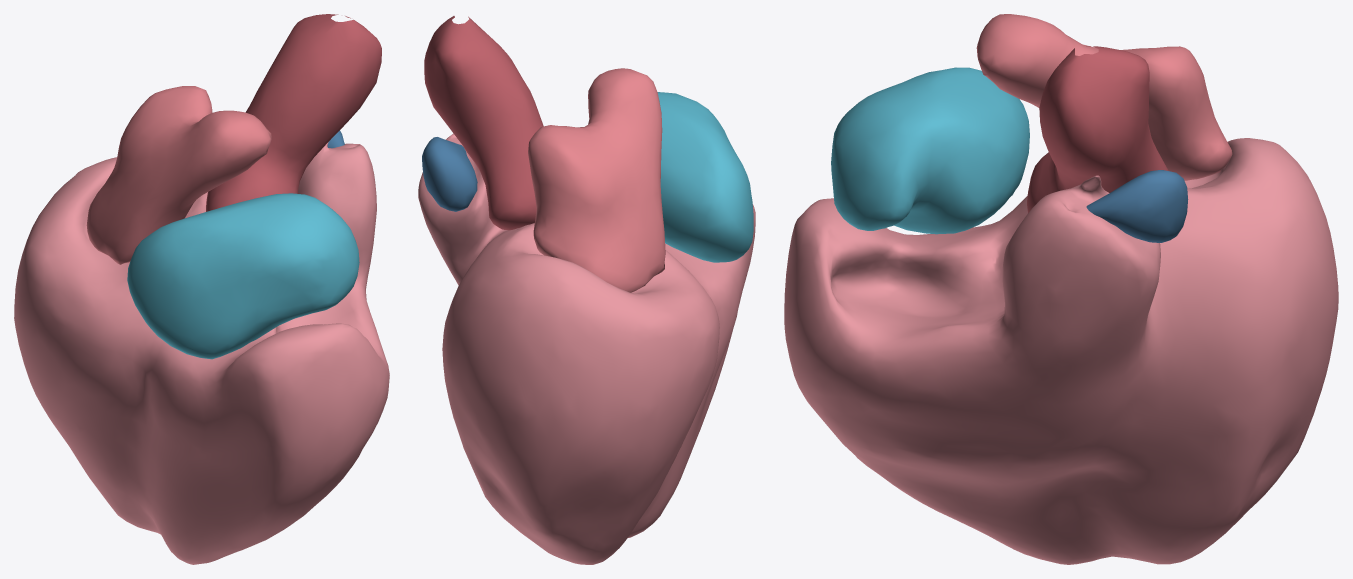
The model's file is frame_40.glb.
3 renders of one model, left to right at view 1: azimuth 30°, elevation 25°; view 2: azimuth 150°, elevation 25°; view 3: azimuth 270°, elevation 25°, orthographic. The views are drawn at different scales.
Visible parts, largest first — view 1: Renderer Node; view 2: Renderer Node; view 3: Renderer Node.
Part boxes in pixels (x1,y1,x2,y2): Renderer Node: (14, 14, 389, 564); Renderer Node: (418, 16, 755, 564); Renderer Node: (784, 14, 1338, 564).
Size of the model in its own units: 107 by 164 by 136.
